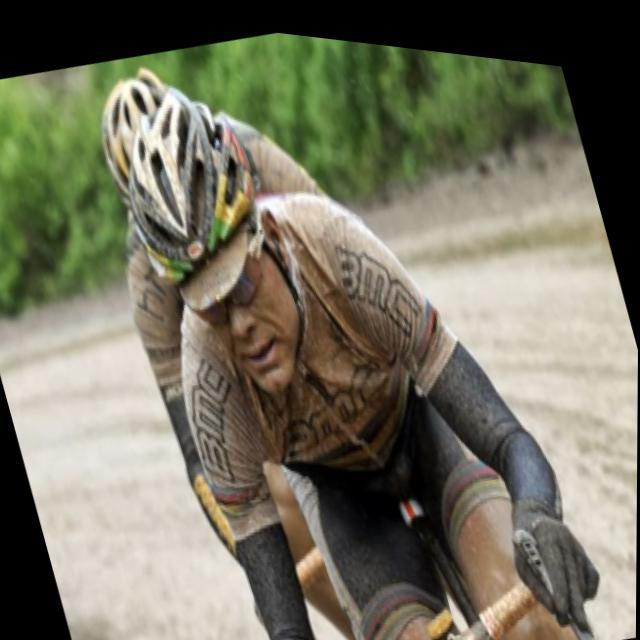Helmet: (129, 90, 329, 406)
